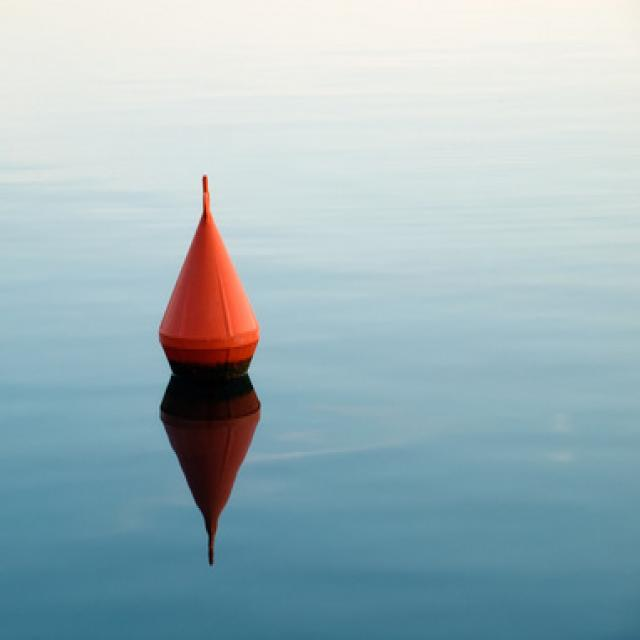buoy: (158, 170, 262, 369)
